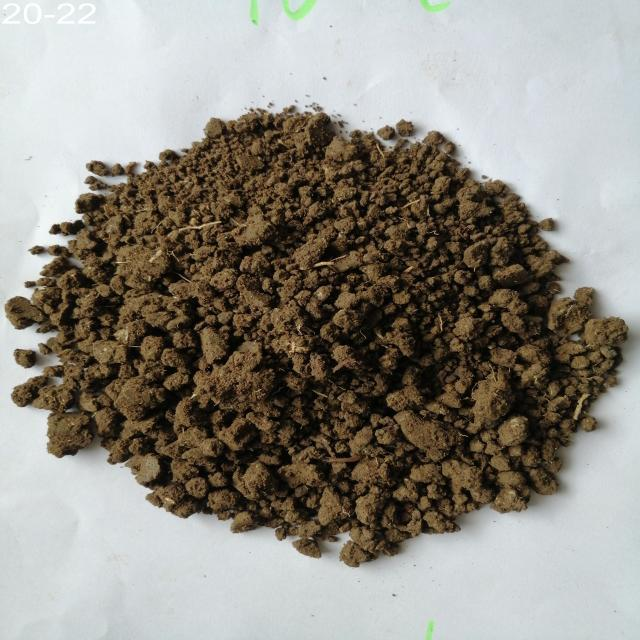soil: (120, 197, 514, 478)
